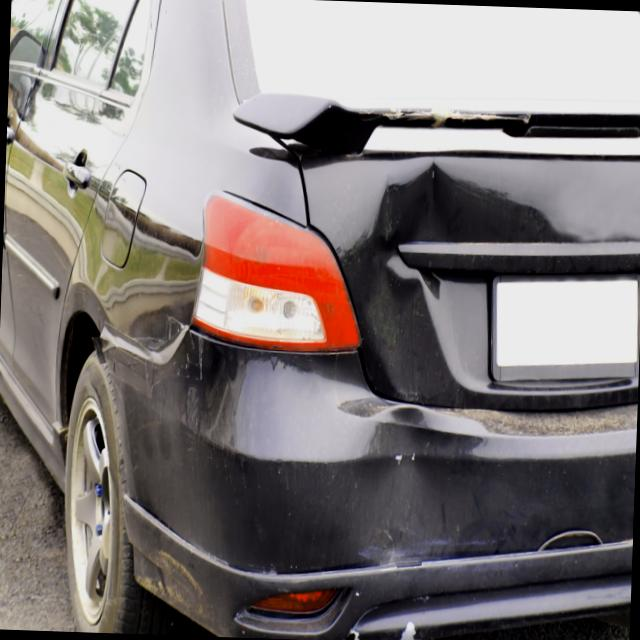Cabossage: (341, 168, 567, 410), (367, 419, 488, 533)
Rayure: (109, 306, 211, 372), (352, 543, 491, 575)
